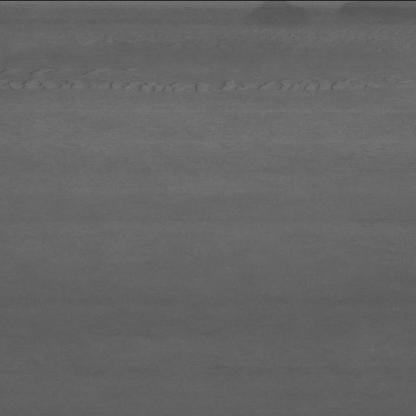silk_spot: (7, 63, 394, 101)
